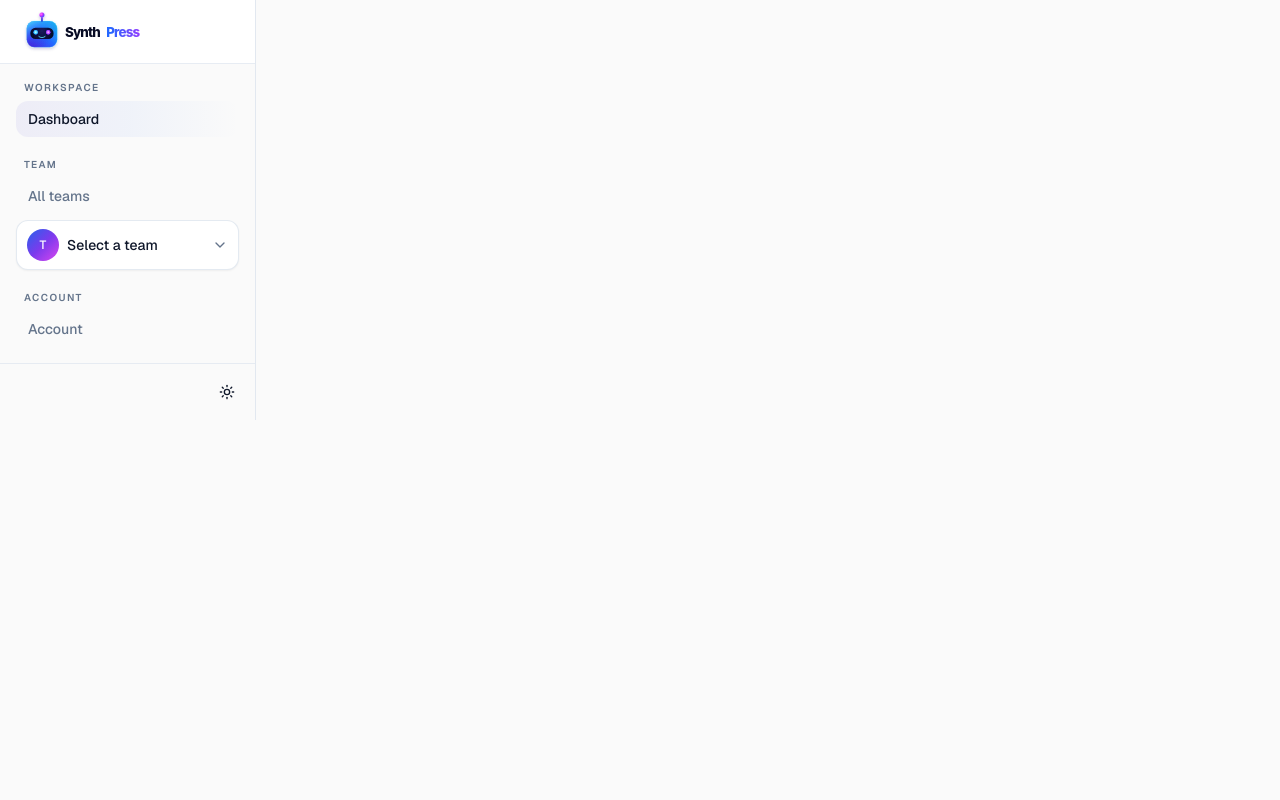
Test: WorkspaceSidebar › closes the dropdown on outside mousedown
This screenshot has width=1280, height=800.
Step 1. Click the button with aria-label "choose or switch team" → (128, 245), box [16, 220, 239, 270]
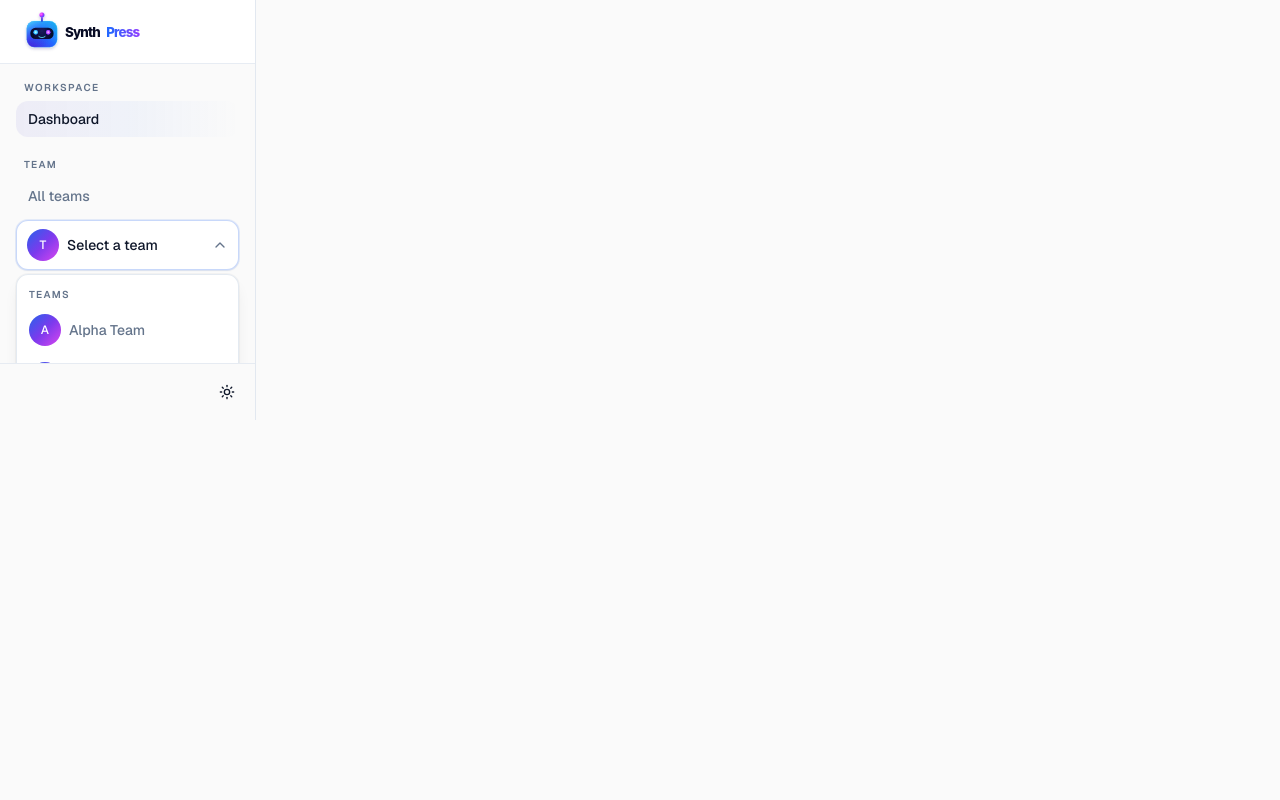
Expected: the list "Teams A Alpha Team B Beta" is shown, [29, 288, 145, 363]
Step 2. Press the mouse on the element that starts with "Workspace" → (640, 400), box [0, 0, 1279, 799]
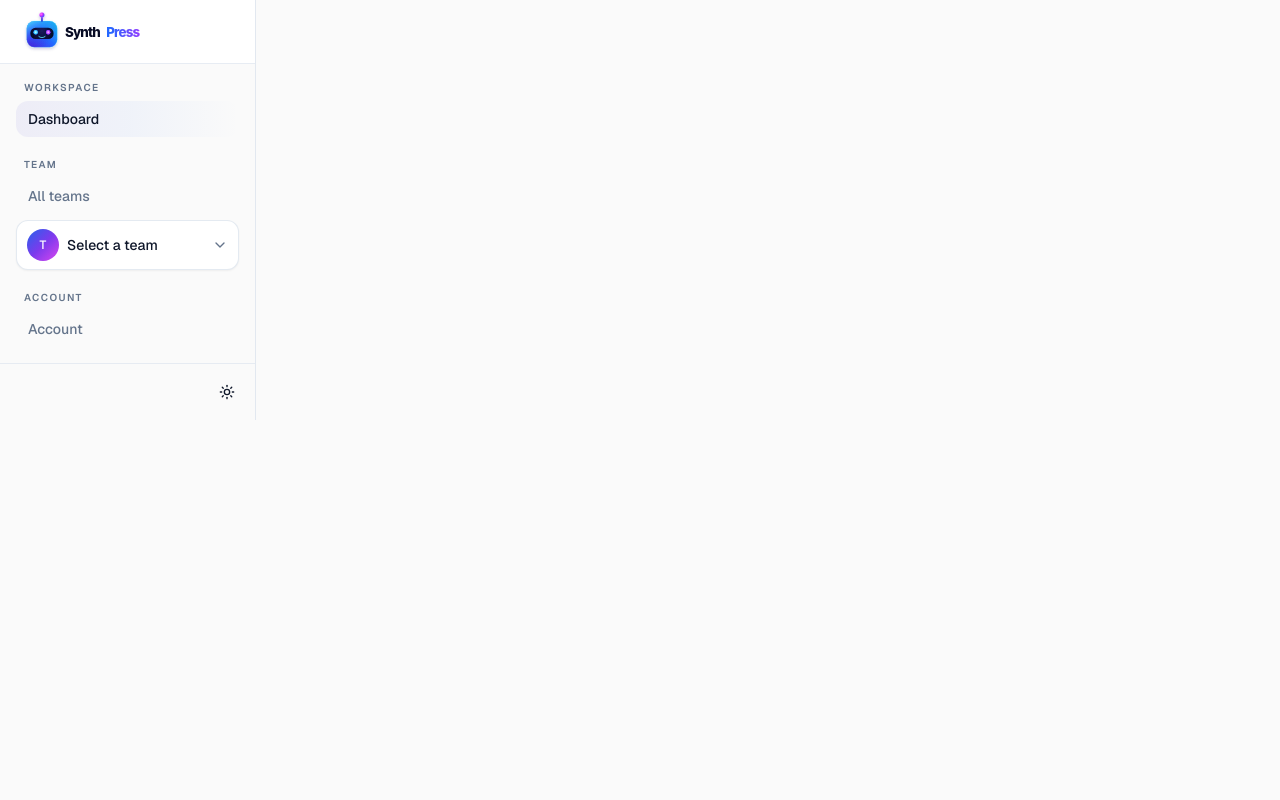
Expected: the list "Teams A Alpha Team" is gone
